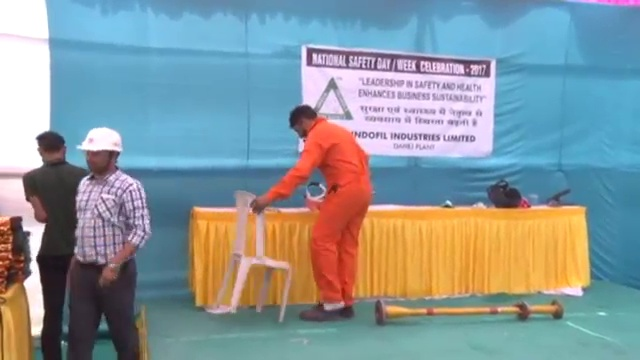helmet: (76, 125, 123, 155)
helmet_off: (286, 104, 320, 141), (35, 131, 68, 164)
helmet_on: (75, 126, 122, 180)
person: (250, 102, 376, 328), (68, 123, 145, 360), (20, 129, 86, 360)
